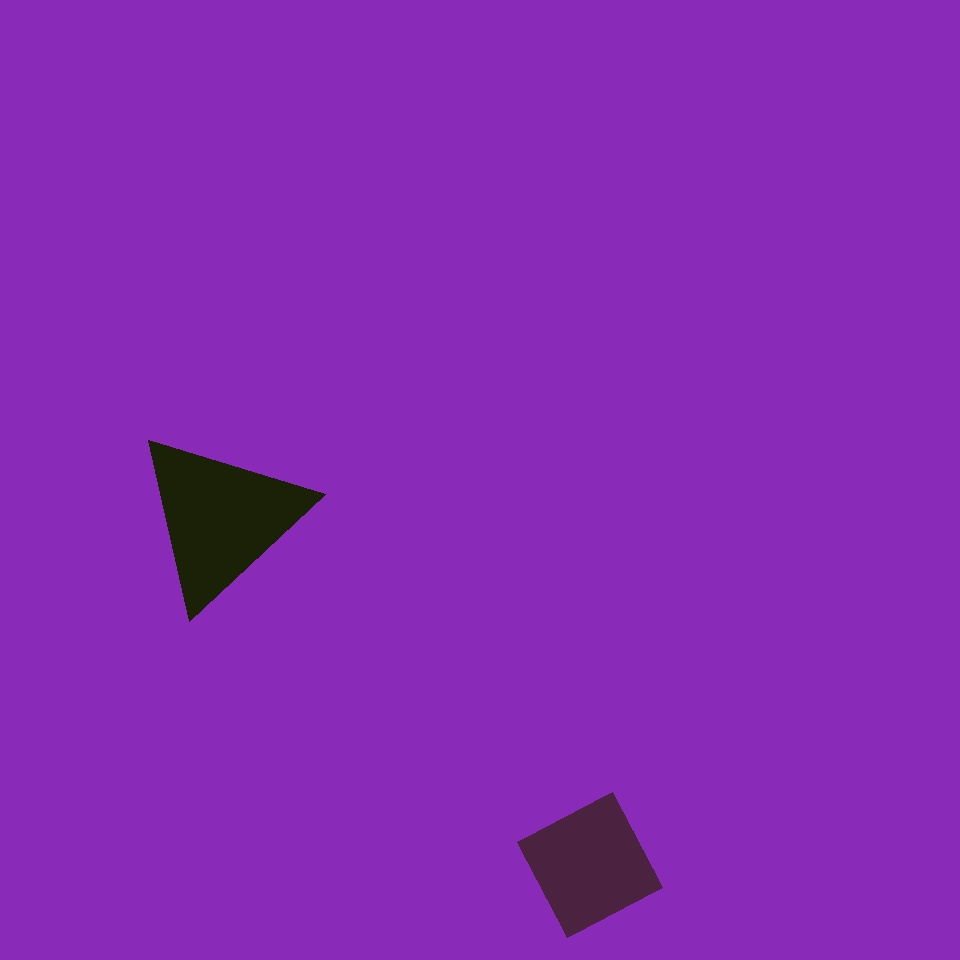circle: (601, 425, 847, 700), (132, 429, 310, 610)
square: (49, 26, 366, 343), (239, 608, 421, 790), (518, 792, 663, 938)
